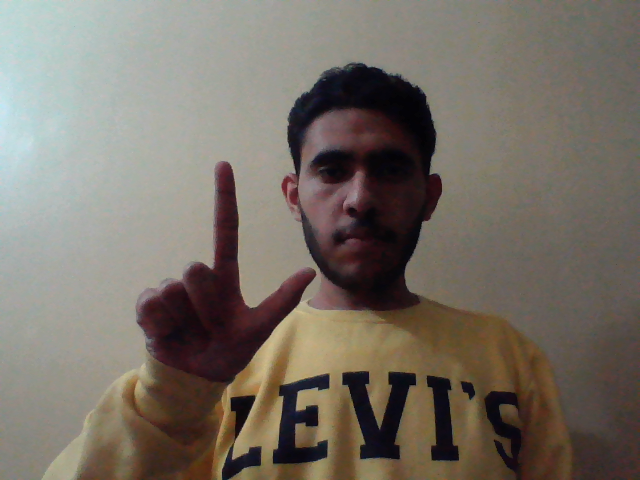L: (129, 155, 322, 391)
